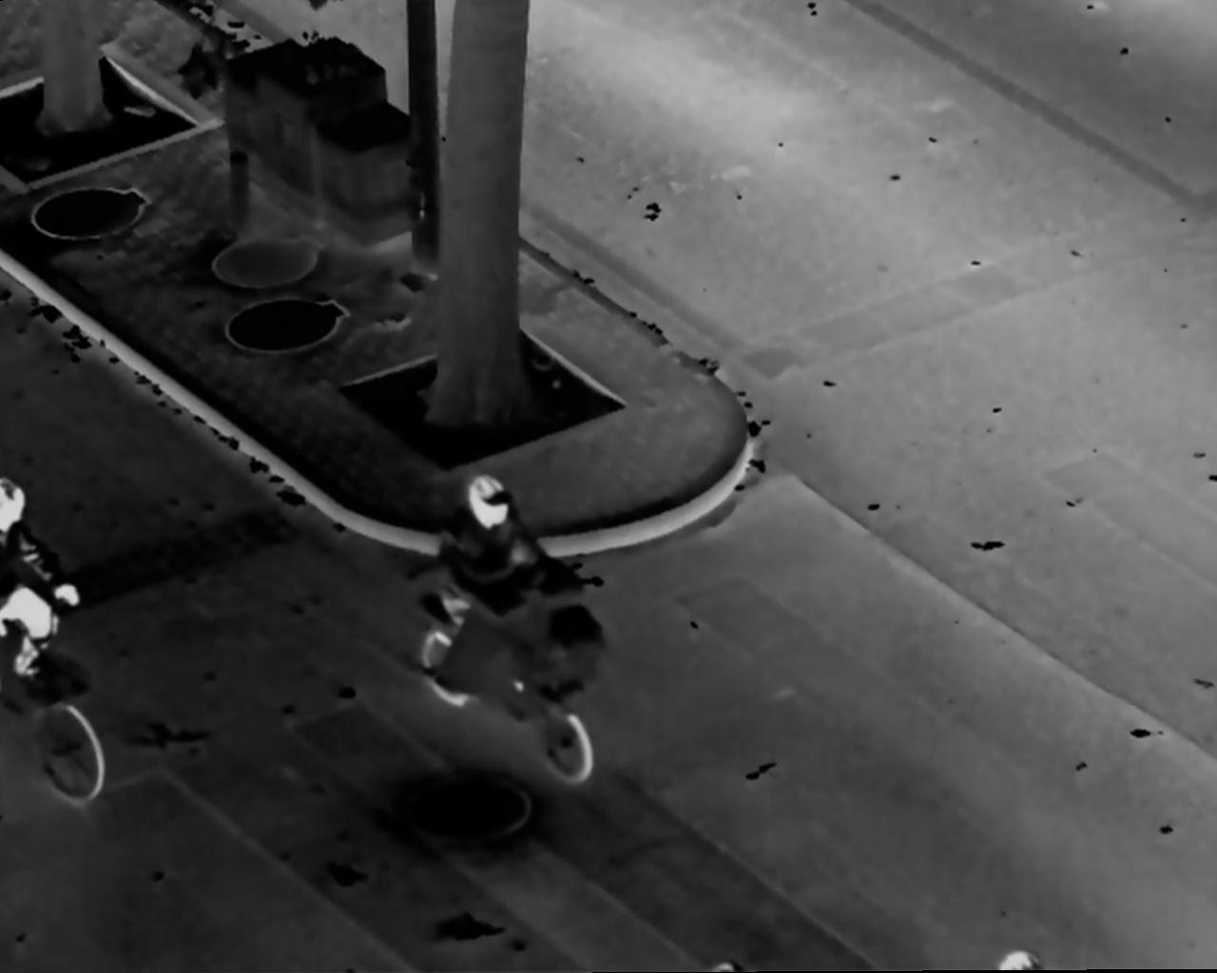person: (420, 473, 594, 740)
